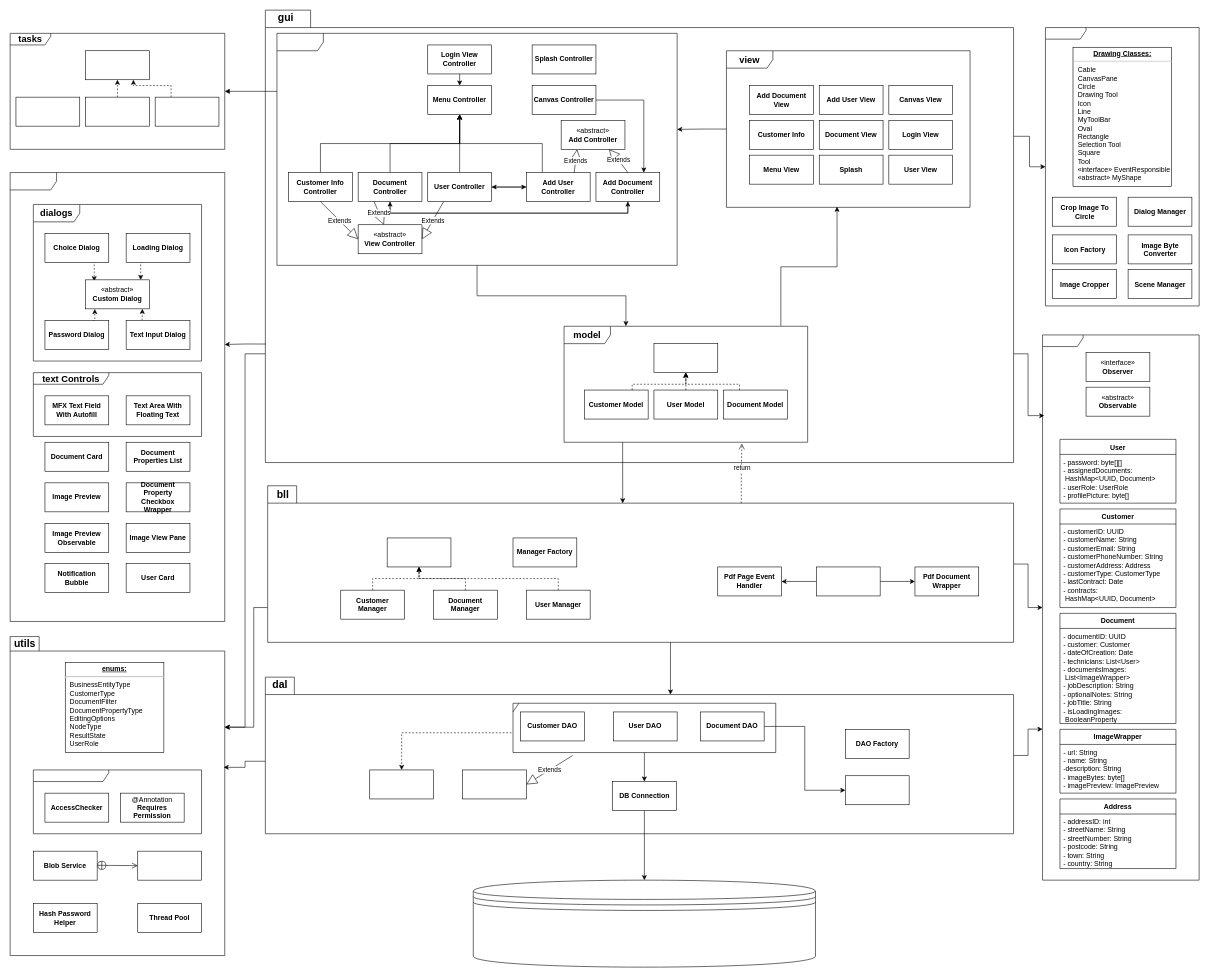
Image size: 1209x977. Some labels were removed from this diagram. The box of each missing label's shape, as (x1, y1, x2, y2) in pixels:
be: (1042, 334, 1199, 880)
controller: (276, 33, 677, 265)
Database: CSe22B_WUAV_Wilhelm: (473, 880, 815, 967)
Delete Task: (15, 97, 80, 126)
Document Image Factory: (845, 775, 909, 805)
Generate Pdf Task: (155, 97, 219, 126)
nodes: (10, 172, 225, 621)
Pdf Generator: (816, 566, 880, 596)
permissions: (33, 769, 202, 834)
Save Task: (85, 97, 149, 126)
startup: (137, 851, 202, 880)
util: (1045, 27, 1199, 306)
«abstract» DAO: (462, 769, 526, 799)
«interface» IDAO: (369, 769, 434, 799)
«interface» IManager: (387, 537, 451, 567)
«interface» IModel: (653, 343, 718, 373)
«interface» Task Callback: (85, 50, 149, 80)
